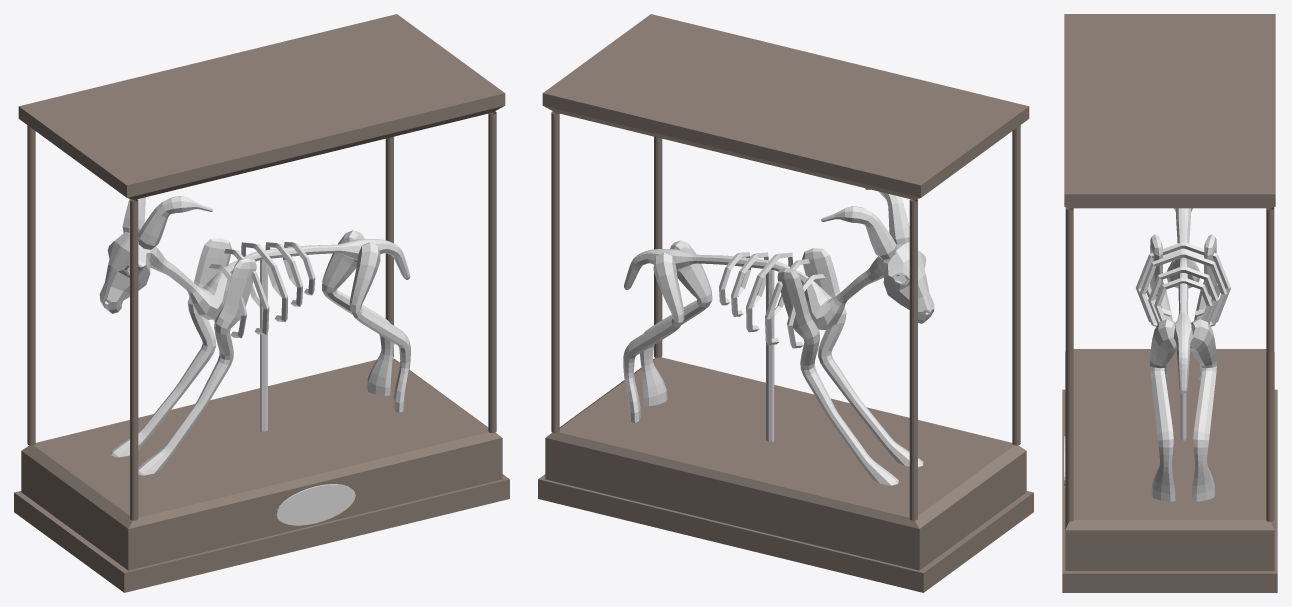
The model's file is DisplayCase_creature.fbx.
3 views of the same model, side by side, from view 1: azimuth 30°, elevation 25°; view 2: azimuth 150°, elevation 25°; view 3: azimuth 270°, elevation 25° (orthographic). The views are drawn at different scales.
Parts seen in each view (by area): view 1: DisplayCase.004; view 2: DisplayCase.004; view 3: DisplayCase.004.
Boxes of the visible parts, <box> form: DisplayCase.004: <box>14,14,509,592</box>; DisplayCase.004: <box>538,14,1033,592</box>; DisplayCase.004: <box>1062,14,1277,592</box>.
Bounding box in the file's own units: 98.35 × 98.96 × 48.74.
